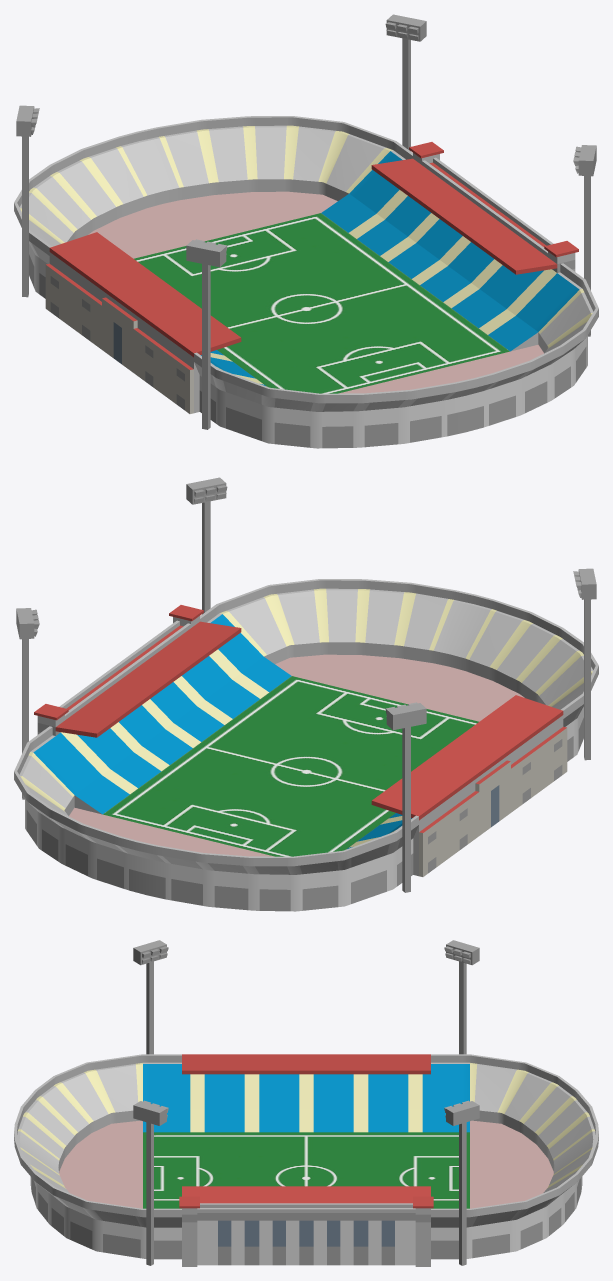
The model's file is stadium4.fbx.
3 views of the same model, one above another, from view 1: azimuth 30°, elevation 25°; view 2: azimuth 150°, elevation 25°; view 3: azimuth 270°, elevation 25° (orthographic). The views are drawn at different scales.
Parts seen in each view (by area): view 1: FSt_Ita_003; view 2: FSt_Ita_003; view 3: FSt_Ita_003.
Boxes of the visible parts, x1=… form: FSt_Ita_003: x1=14, y1=14, x2=598, y2=448; FSt_Ita_003: x1=14, y1=477, x2=598, y2=911; FSt_Ita_003: x1=14, y1=940, x2=598, y2=1266.
Size of the model in its own units: 6.97 by 2.96 by 9.96.
10 materials, 1 textured.
